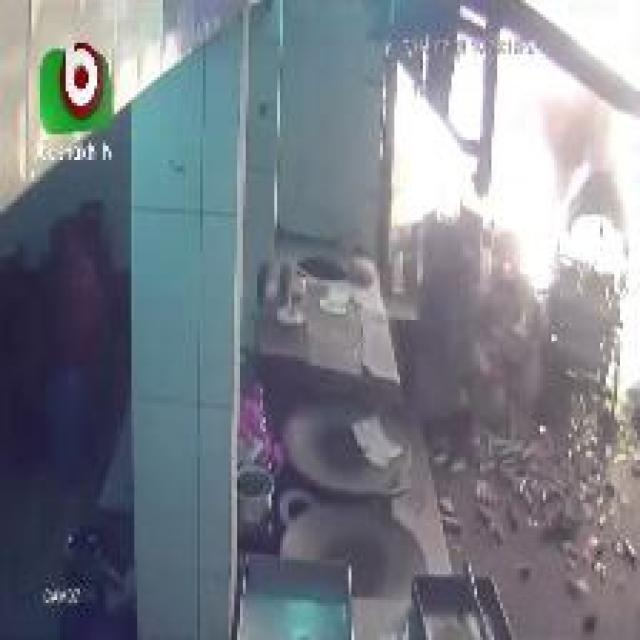fire: (360, 5, 640, 304)
